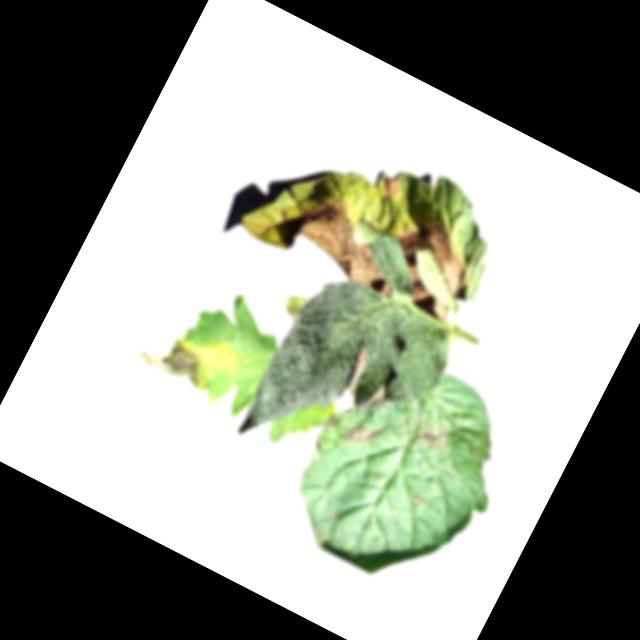Late_blight: (265, 177, 418, 301), (375, 212, 485, 324), (134, 310, 240, 402), (339, 344, 376, 396), (408, 415, 451, 458), (339, 415, 382, 456), (371, 169, 405, 203), (275, 291, 307, 326), (403, 491, 429, 514)
healthy: (235, 263, 462, 503)
